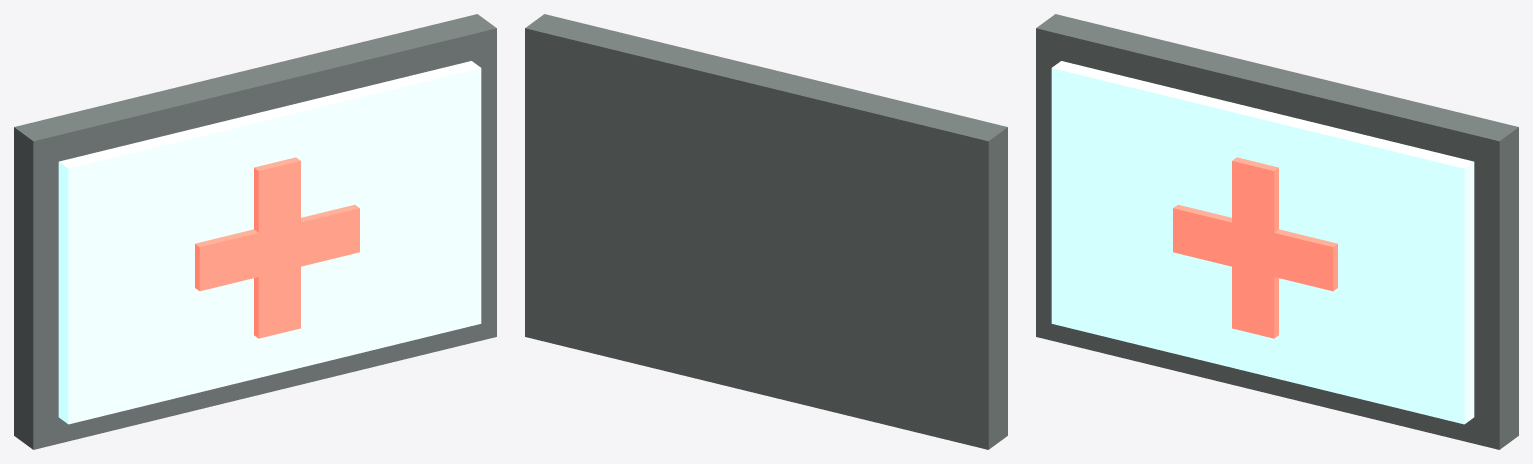
The model's file is prop_med_screen.glb.
The picture shows the model from 3 angles, left to right: view 1: azimuth 30°, elevation 25°; view 2: azimuth 150°, elevation 25°; view 3: azimuth 330°, elevation 25°; orthographic projection.
Parts seen in each view (by area): view 1: prop_med_screen; view 2: prop_med_screen; view 3: prop_med_screen.
Part boxes in pixels (box(x1,y1,x2,y2)): prop_med_screen: box(14, 14, 496, 449); prop_med_screen: box(525, 14, 1007, 449); prop_med_screen: box(1036, 14, 1518, 449).
Bounding box in the file's own units: 1.1 × 0.7 × 0.14.
